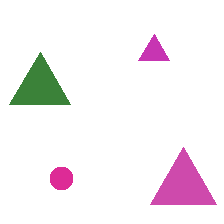circle: (50, 167, 72, 189)
triangle: (150, 147, 216, 204), (9, 52, 70, 104), (138, 34, 169, 60)
